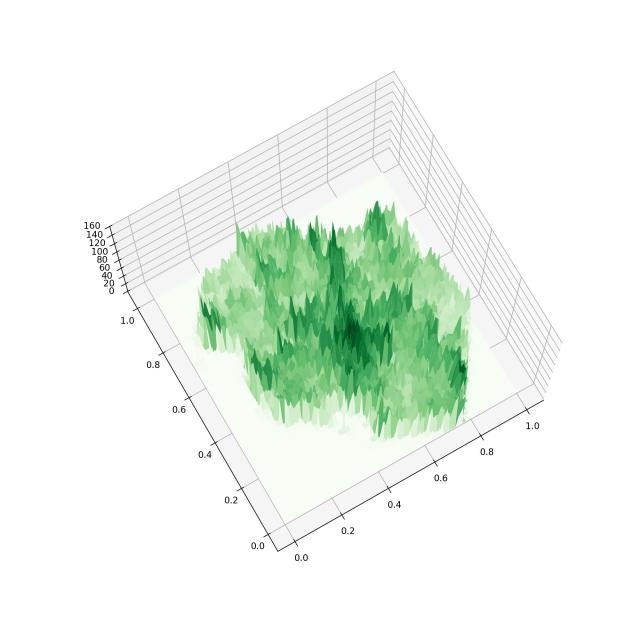spruce: (59, 40, 574, 604)
